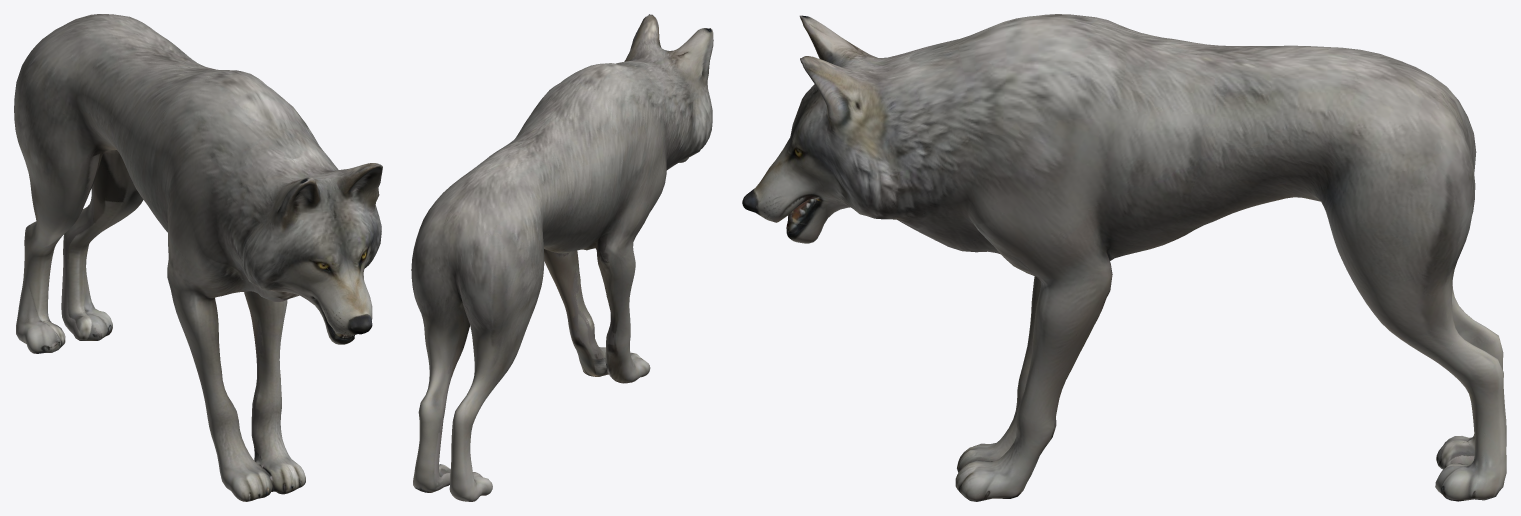
File: dire-wolf.glb
3 views of the same model, side by side, from view 1: azimuth 30°, elevation 25°; view 2: azimuth 150°, elevation 25°; view 3: azimuth 270°, elevation 25° (orthographic). The views are drawn at different scales.
Bounding box in the file's own units: 0.4929 × 1.35 × 2.
Materials: 1 (1 with a texture image).
